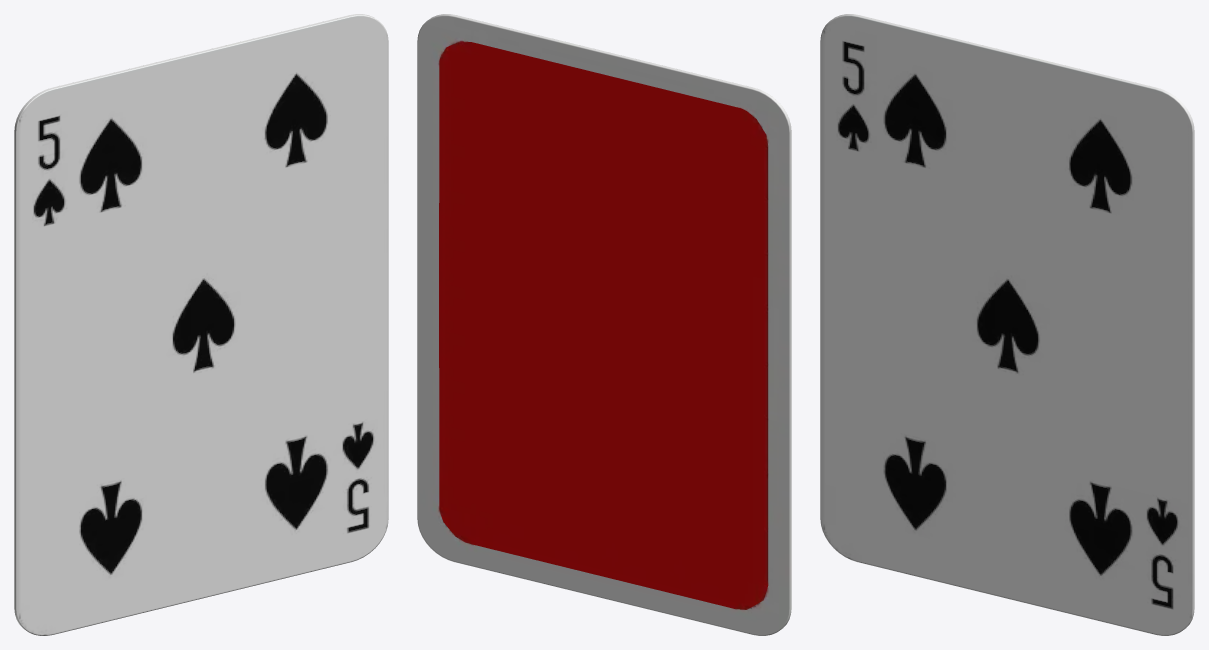
Rendered from spades_5.glb.
3 views of the same model, side by side, from view 1: azimuth 30°, elevation 25°; view 2: azimuth 150°, elevation 25°; view 3: azimuth 330°, elevation 25° (orthographic).
Parts seen in each view (by area): view 1: defaultMaterial.007; view 2: defaultMaterial.007; view 3: defaultMaterial.007.
Part boxes in pixels (box(x1,y1,x2,y2)): defaultMaterial.007: box(14, 14, 388, 635); defaultMaterial.007: box(417, 14, 791, 635); defaultMaterial.007: box(820, 14, 1194, 635).
Bounding box in the file's own units: 0.1408 × 0.1972 × 0.00111.
Materials: 1 (1 with a texture image).
